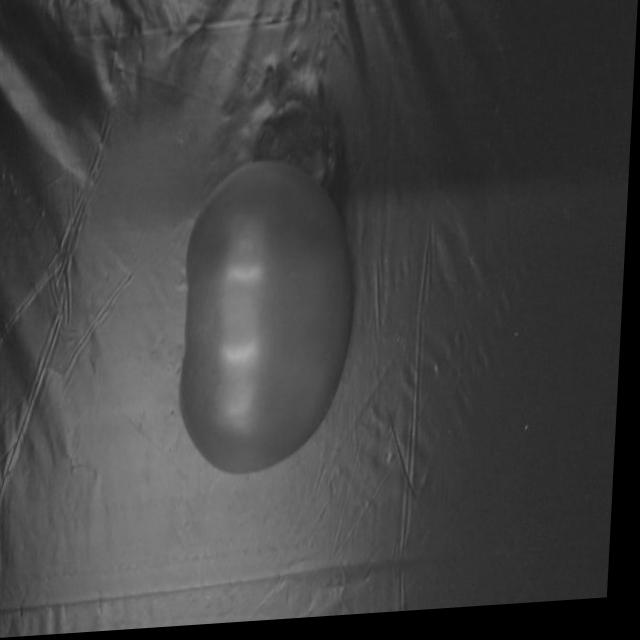kirmizi: (173, 121, 376, 479)
